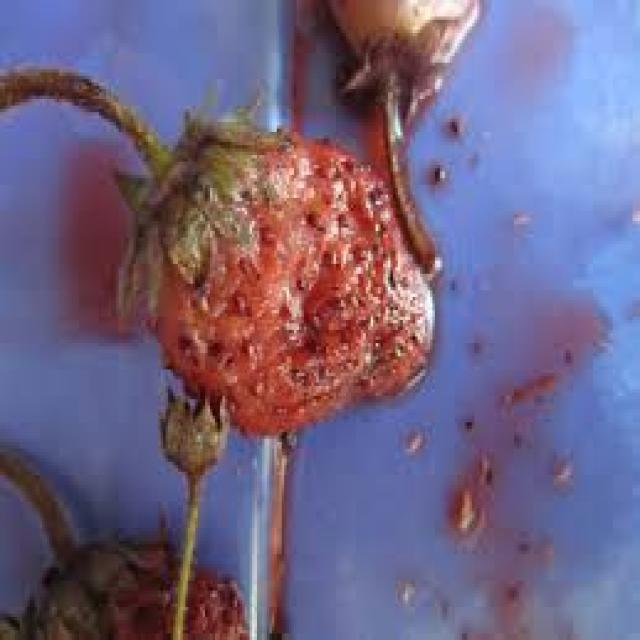food_waste: (0, 0, 479, 637)
